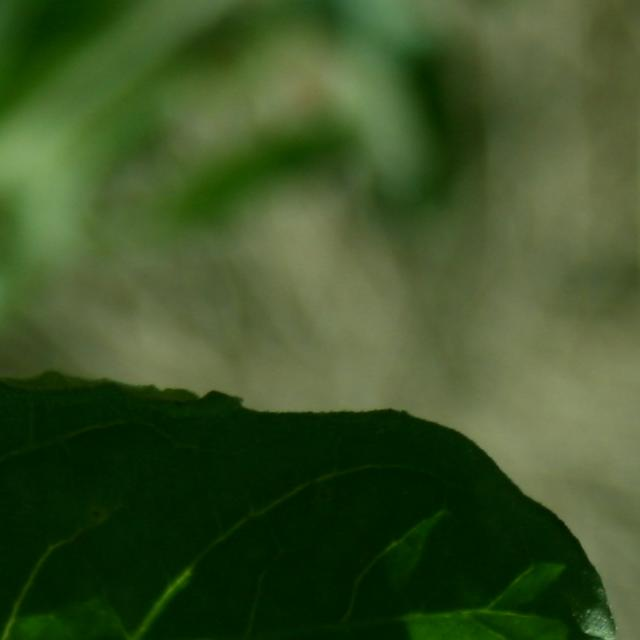Tomato leaf: (0, 339, 611, 640), (302, 625, 640, 640)
